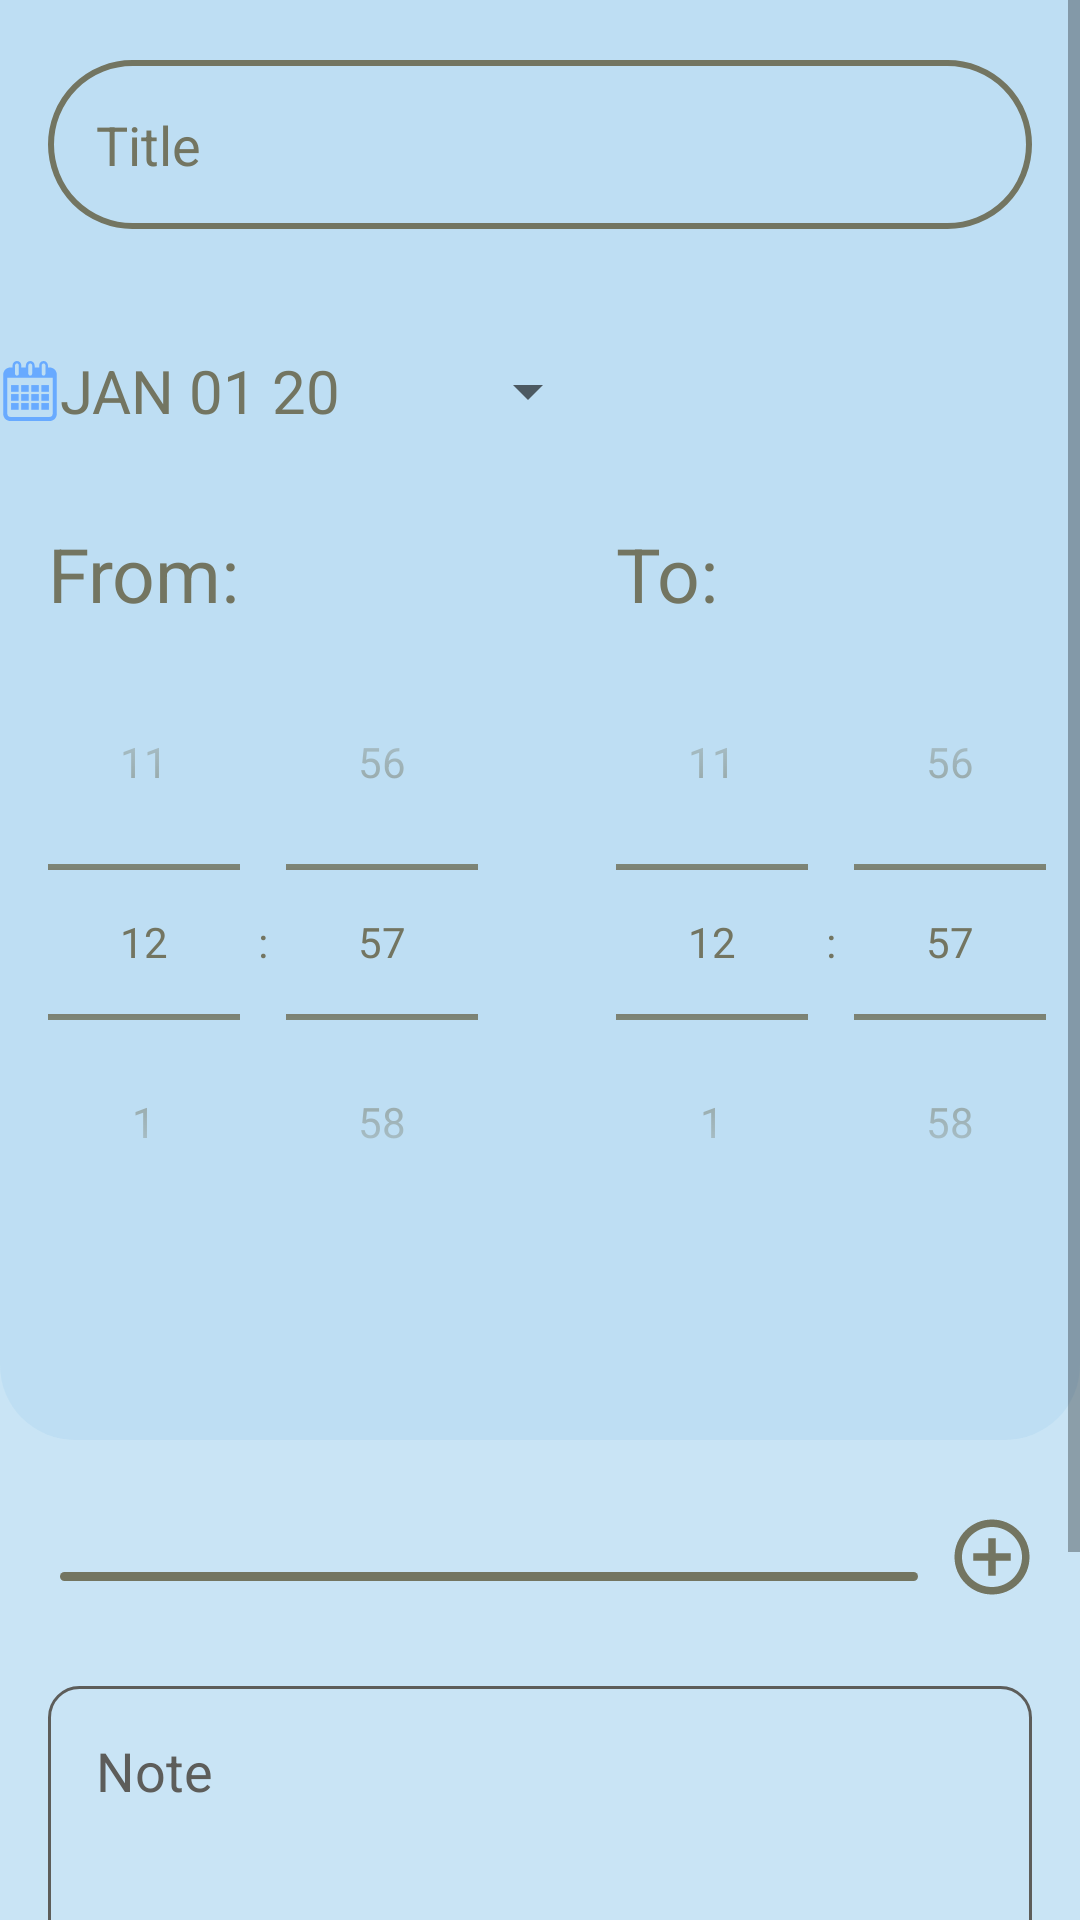

Point at icon controls on the screen. Image size 1080px x 1920px, points as (x=x, y=y).
add: (x=992, y=1557)
